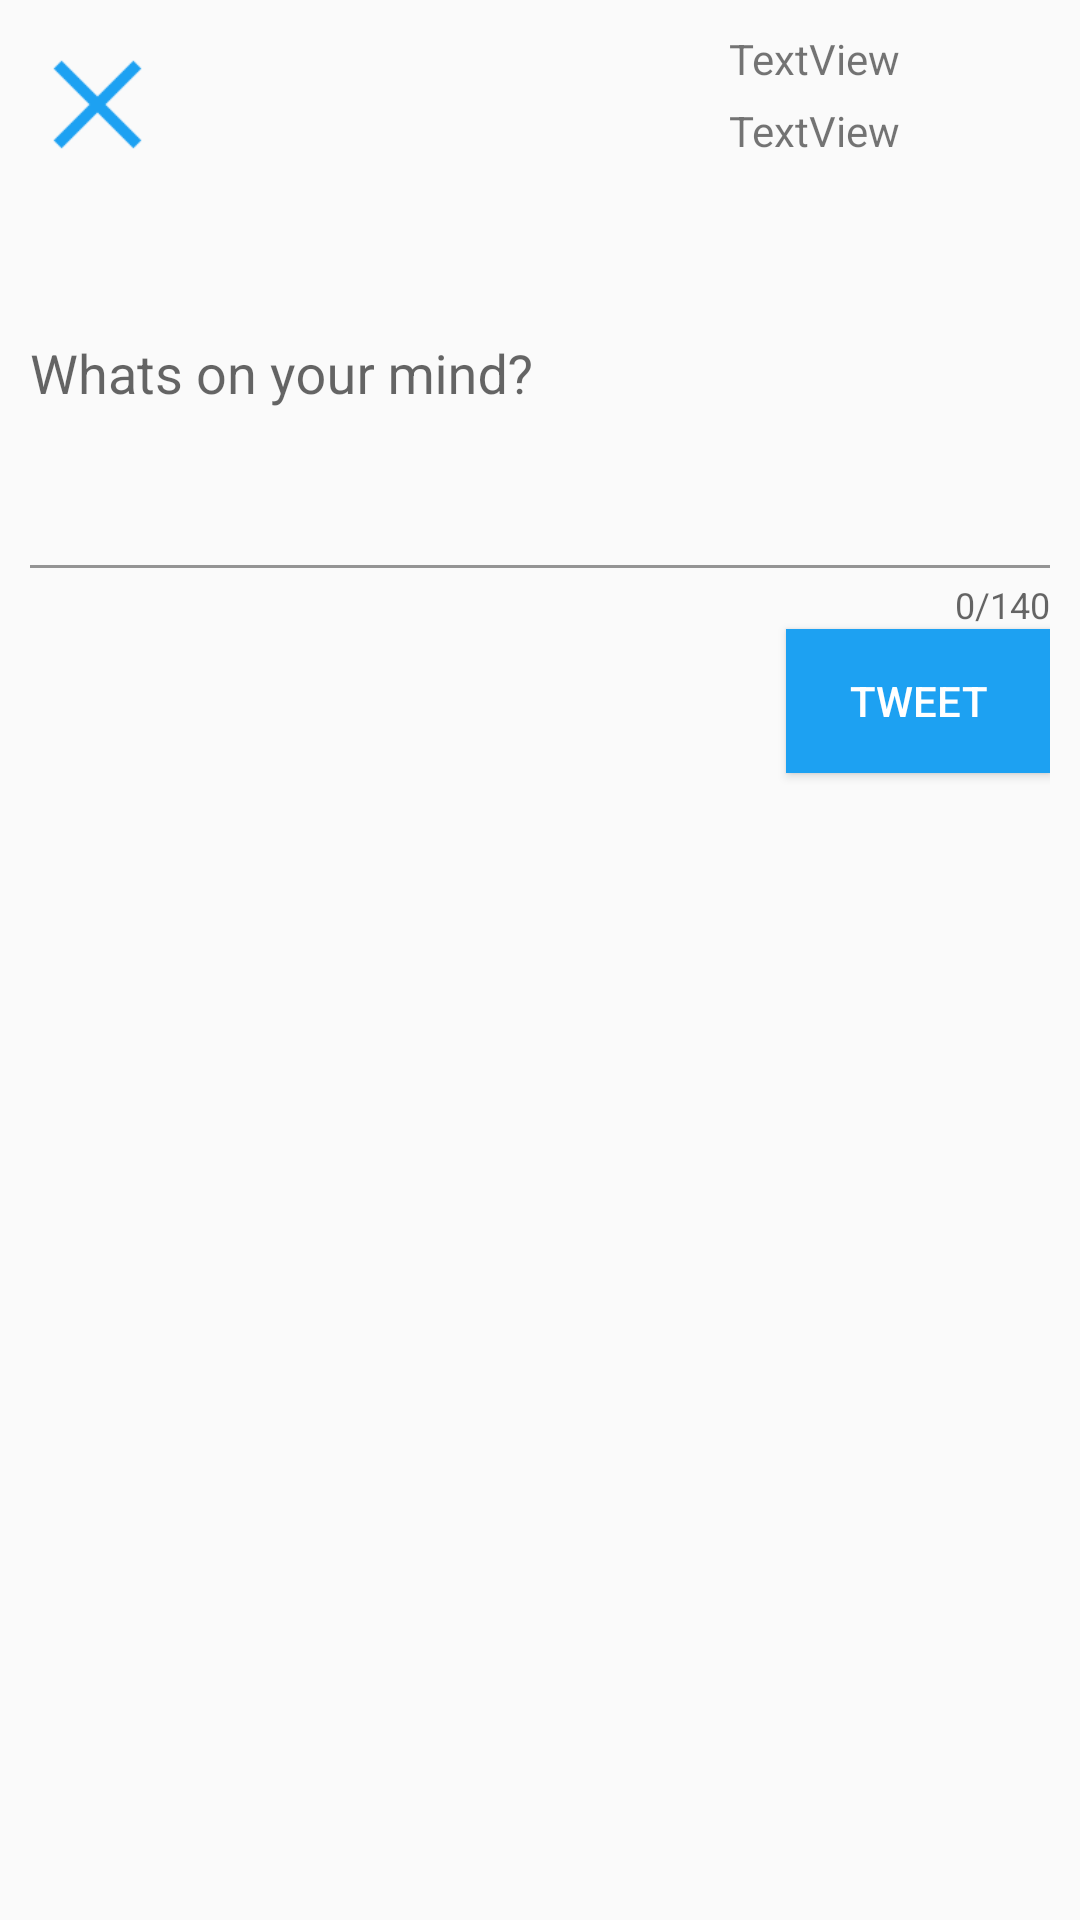

Point at icon controls on the screen. Image size 1080*1920, points as [x,y].
cancel: [97,104]
